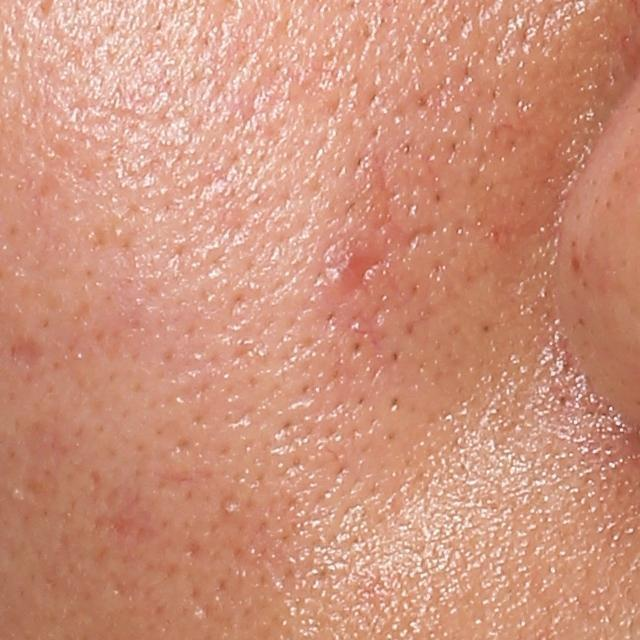atrophic_scar: (11, 335, 46, 369)
